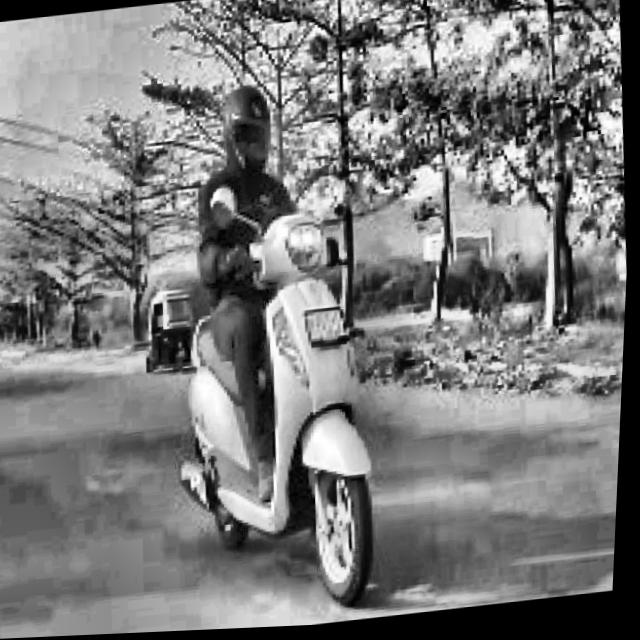motorcycle: (139, 161, 452, 631)
